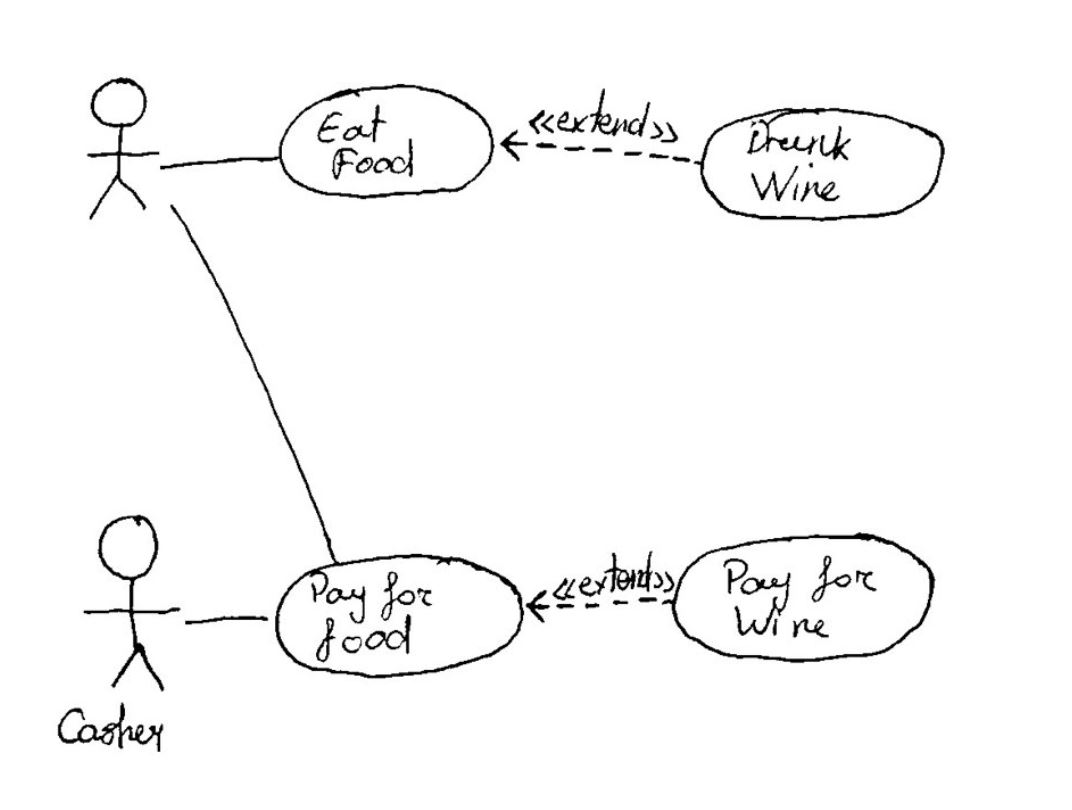actor: (78, 504, 173, 697), (70, 65, 158, 225)
association: (168, 202, 338, 561), (501, 125, 701, 168), (525, 582, 673, 622), (161, 143, 274, 186), (182, 599, 271, 637)
text: (718, 552, 886, 642), (308, 569, 445, 664), (742, 119, 858, 210), (525, 86, 691, 146), (317, 101, 423, 185), (51, 700, 180, 765), (557, 546, 674, 597)
use_case: (670, 534, 936, 662), (272, 554, 525, 680), (696, 108, 944, 221), (277, 82, 494, 201)
